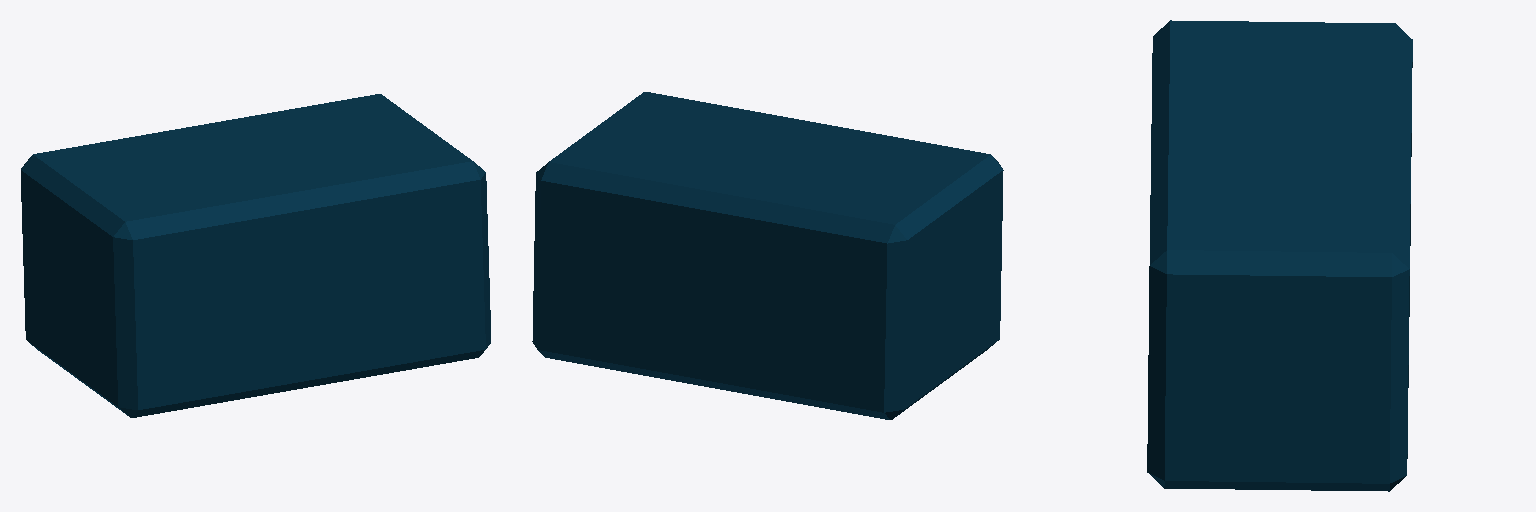
The robot description file, URDF, robot "bolt_2":
<?xml version="1.0" ?>
<robot name="bolt_2">
  <link name="bolt_2_base_link">
    <contact>
      <lateral_friction value="1.0"/>
      <rolling_friction value="0.001"/>
    </contact>
    <inertial>
      <origin rpy="0 0 0" xyz="0 0 0"/>
       <mass value=".02"/>
       <inertia ixx="1" ixy="0" ixz="0" iyy="1" iyz="0" izz="1"/>
    </inertial>
    <visual>
      <origin rpy="0 0 0" xyz="0 0 0"/>
      <geometry>
        <mesh filename="block_wood.stl" scale="1 1 1"/>
      </geometry>
       <material name="yellow">
        <color rgba=".062 .243 0.329 1"/>
      </material>
    </visual>
    <collision>
      <origin rpy="0 0 0" xyz="0 0 0"/>
      <geometry>
        <mesh filename="block_wood.stl" scale="1 1 1"/>
      </geometry>
    </collision>
  </link>
</robot>

--- Facts derived from the render (not from the file) ---
Views: 3 orthographic renders of the robot side by side, from view 1: azimuth 30°, elevation 25°; view 2: azimuth 150°, elevation 25°; view 3: azimuth 270°, elevation 25°.
Robot: bolt_2 — 1 links, 0 joints (none); root link bolt_2_base_link; default pose: all joints at 0.
Visible links, largest first — view 1: bolt_2_base_link; view 2: bolt_2_base_link; view 3: bolt_2_base_link.
Link boxes in pixels (left/top/right/bottom): bolt_2_base_link: left=21, top=94, right=490, bottom=417; bolt_2_base_link: left=532, top=92, right=1003, bottom=419; bolt_2_base_link: left=1147, top=20, right=1412, bottom=491.
Size in the robot's own frame: 0.0525 by 0.0267 by 0.0294 metres.
1 mesh visuals loaded from 1 distinct referenced files (1 binary STL).